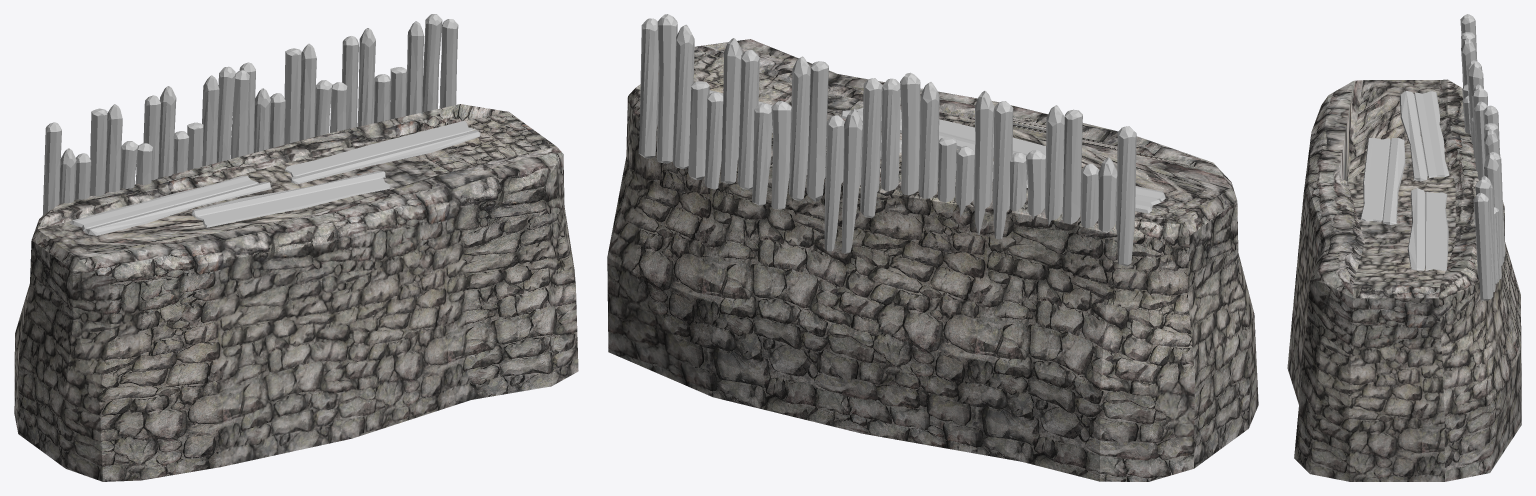
File: StoneWall_1_LOD1.fbx
3 renders of one model, left to right at view 1: azimuth 30°, elevation 25°; view 2: azimuth 150°, elevation 25°; view 3: azimuth 270°, elevation 25°, orthographic. The views are drawn at different scales.
Parts seen in each view (by area): view 1: Stone, Wood; view 2: Stone, Wood; view 3: Stone, Wood.
Part boxes in pixels (x1,y1,x2,y2): Stone: (14, 104, 578, 481); Wood: (42, 14, 480, 235); Stone: (607, 39, 1258, 481); Wood: (638, 14, 1165, 266); Stone: (1287, 79, 1521, 481); Wood: (1360, 14, 1505, 300).
Size of the model in its own units: 1417 by 629 by 809.
